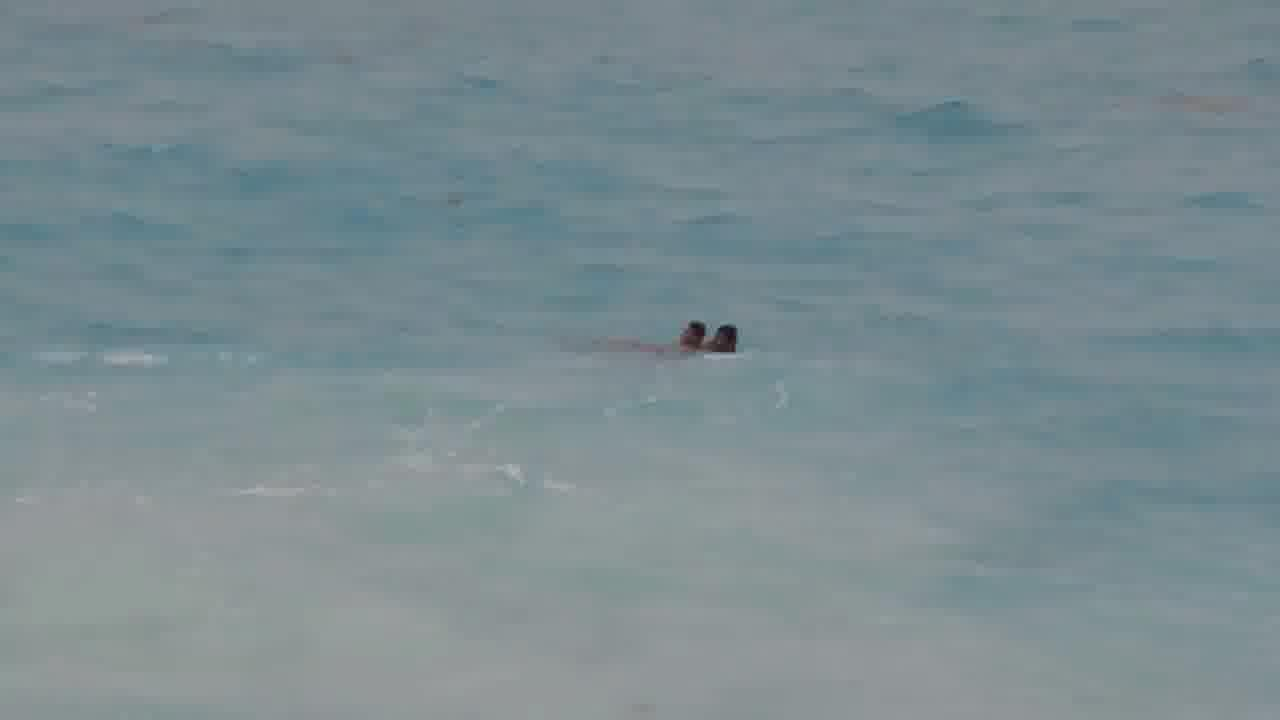human: (703, 307, 744, 366), (677, 312, 696, 350)
